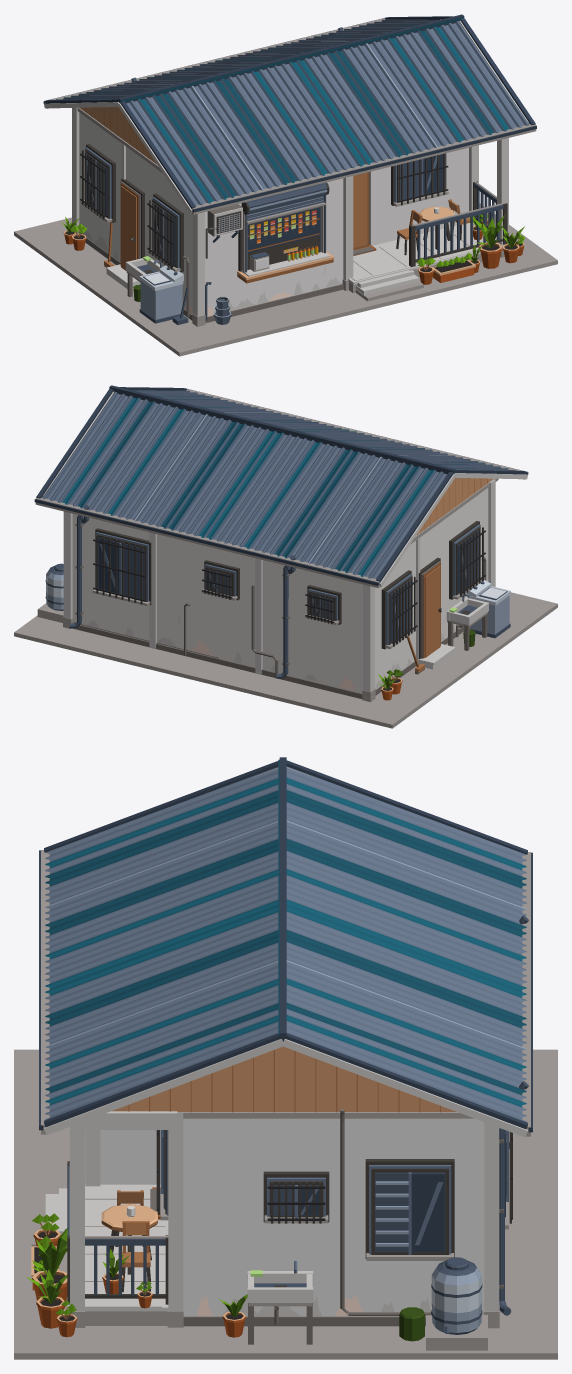
The model's file is house-bungalow.glb.
The picture shows the model from 3 angles, top to bottom: view 1: azimuth 30°, elevation 25°; view 2: azimuth 150°, elevation 25°; view 3: azimuth 270°, elevation 25°; orthographic projection. The views are drawn at different scales.
Parts seen in each view (by area): view 1: Filipino House 04 - Sari-Sari Bungalow; view 2: Filipino House 04 - Sari-Sari Bungalow; view 3: Filipino House 04 - Sari-Sari Bungalow.
Boxes of the visible parts, x1,y1,x2,y2 form: Filipino House 04 - Sari-Sari Bungalow: [14, 14, 557, 356]; Filipino House 04 - Sari-Sari Bungalow: [14, 385, 557, 728]; Filipino House 04 - Sari-Sari Bungalow: [14, 757, 557, 1359].
Size of the model in its own units: 10.3 by 5 by 7.8.
1 material, 1 textured.
